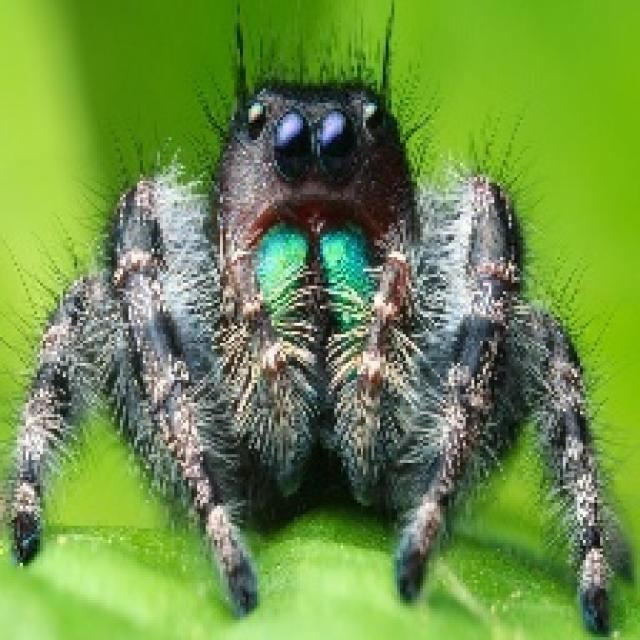Non venomous spider: (2, 7, 634, 624)
